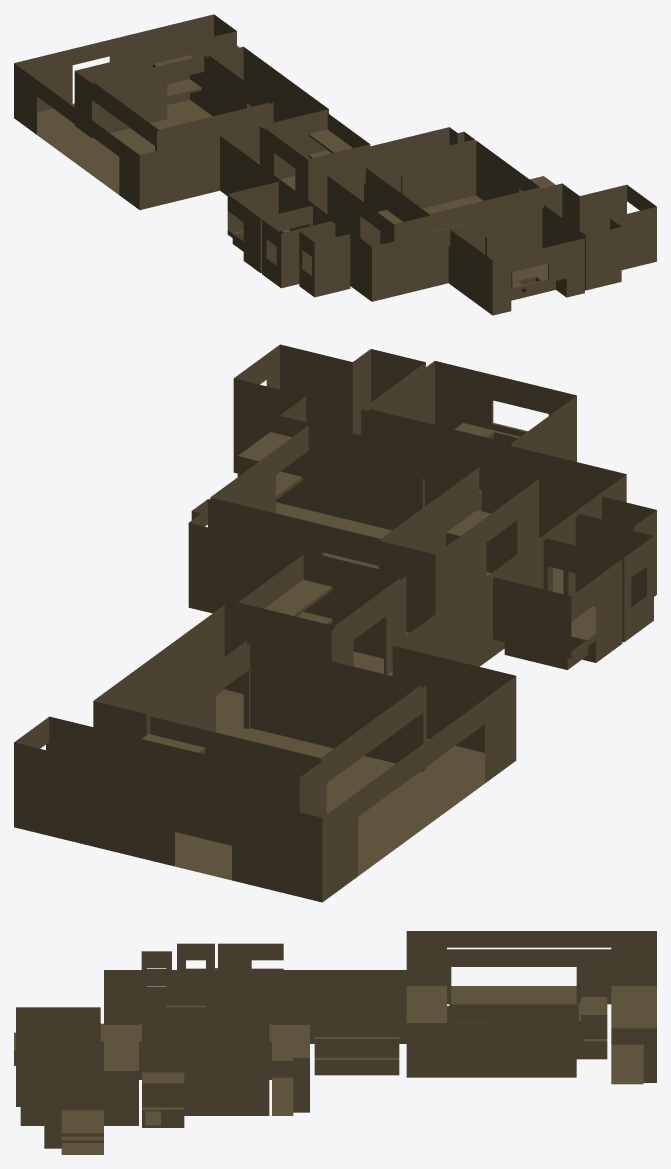
Rendered from house_01.fbx.
3 renders of one model, top to bottom at view 1: azimuth 30°, elevation 25°; view 2: azimuth 150°, elevation 25°; view 3: azimuth 270°, elevation 25°, orthographic. The views are drawn at different scales.
Parts seen in each view (by area): view 1: group5; view 2: group5; view 3: group5.
Part boxes in pixels (x1,y1,x2,y2): group5: (14, 14, 656, 315); group5: (14, 344, 656, 902); group5: (14, 931, 656, 1154).
Size of the model in its own units: 1817 by 317 by 3032.
